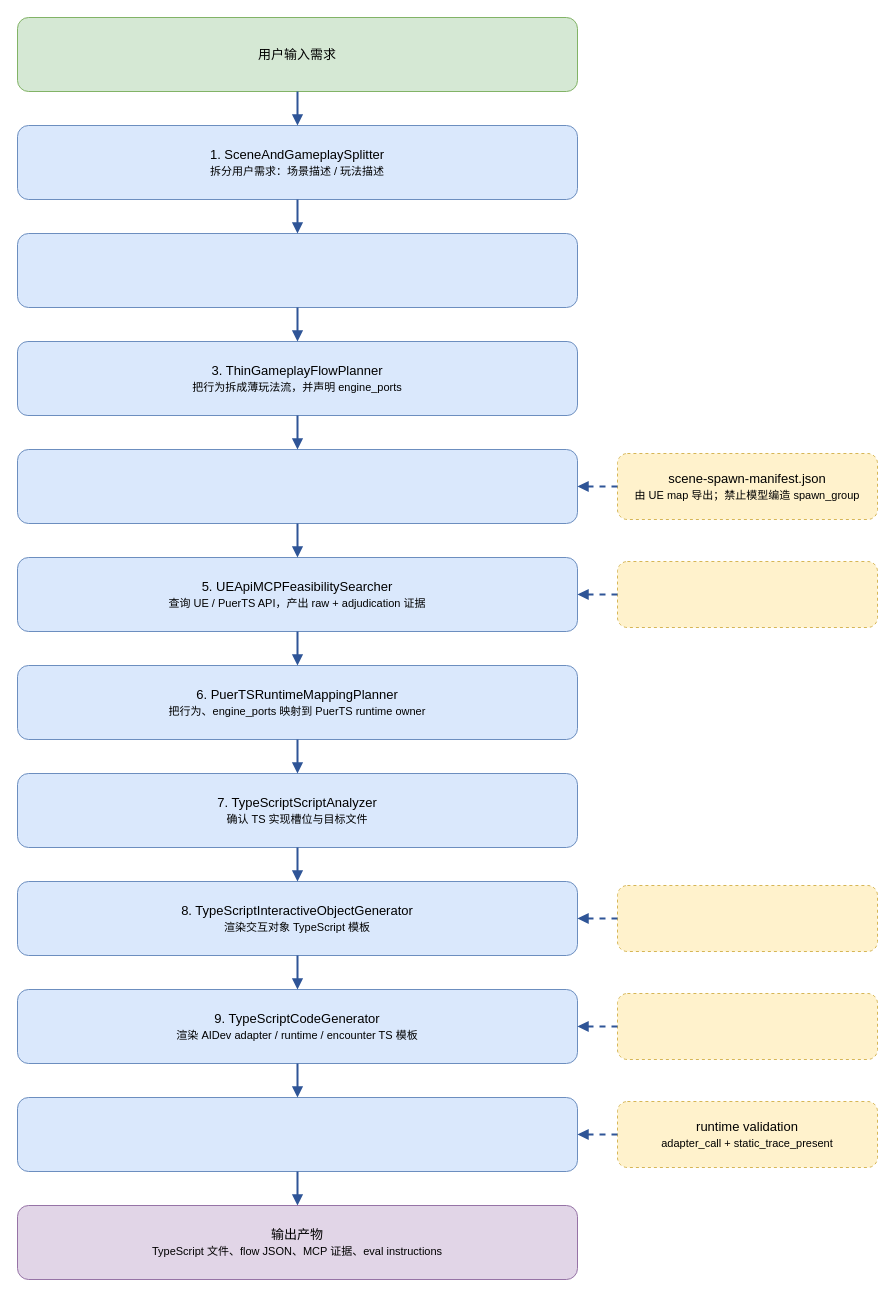
This 895x1297 diagram has some shape labels left out. Here are the shapes that lost their labels. From the top down, the box of each, then its label:
(16, 232, 578, 308): 2. EntityAbilityBehaviorPlanner 抽取实体、能力、行为；保持定义层
(16, 448, 578, 524): 4. EncounterSpecPlanner 基于场景 spawn manifest 生成敌人/遭遇规格
(616, 560, 878, 628): UE API MCP raw search + adjudication hit/miss 证据
(616, 884, 878, 952): templates/typescript interactive_object.ts.tmpl
(616, 992, 878, 1060): templates/typescript runtime / adapter / encounter 模板
(16, 1096, 578, 1172): 10. EvaluateInstructionGenerator 生成 eval instructions 与 runtime validation trace
